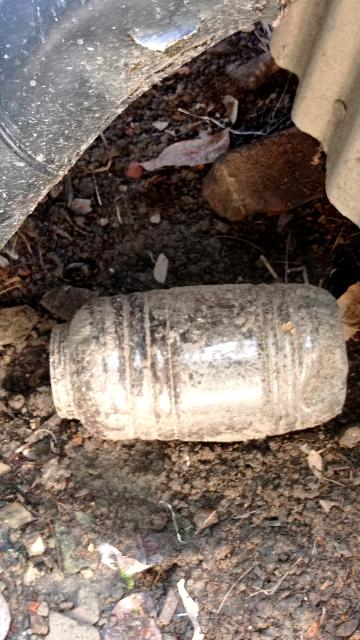hardplastic: (43, 259, 359, 456)
